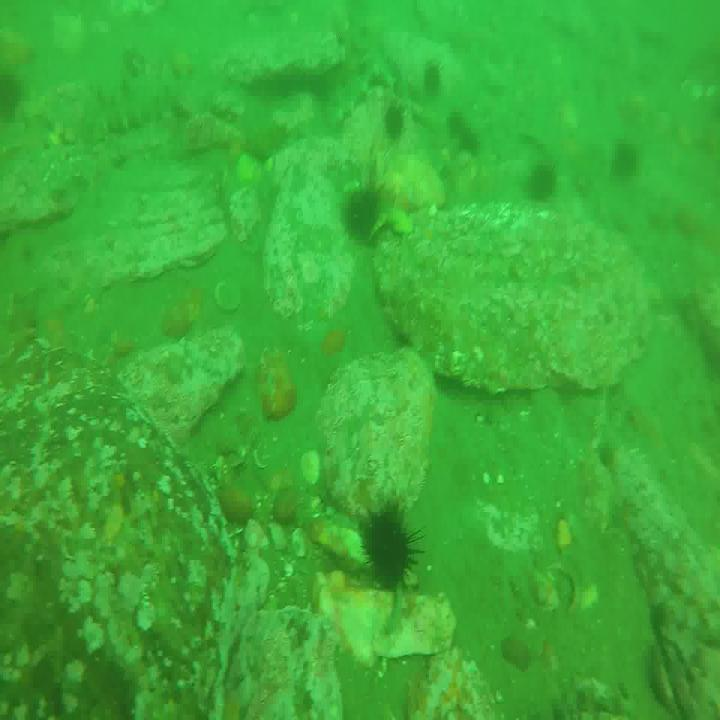echinus: (364, 500, 409, 589), (348, 179, 376, 244), (615, 140, 645, 185), (532, 157, 556, 208), (451, 107, 478, 150), (384, 107, 410, 145), (425, 61, 444, 97)
holothurian: (101, 74, 181, 133)
scallop: (216, 276, 244, 316), (389, 198, 414, 239), (299, 450, 322, 492), (291, 528, 311, 564)
